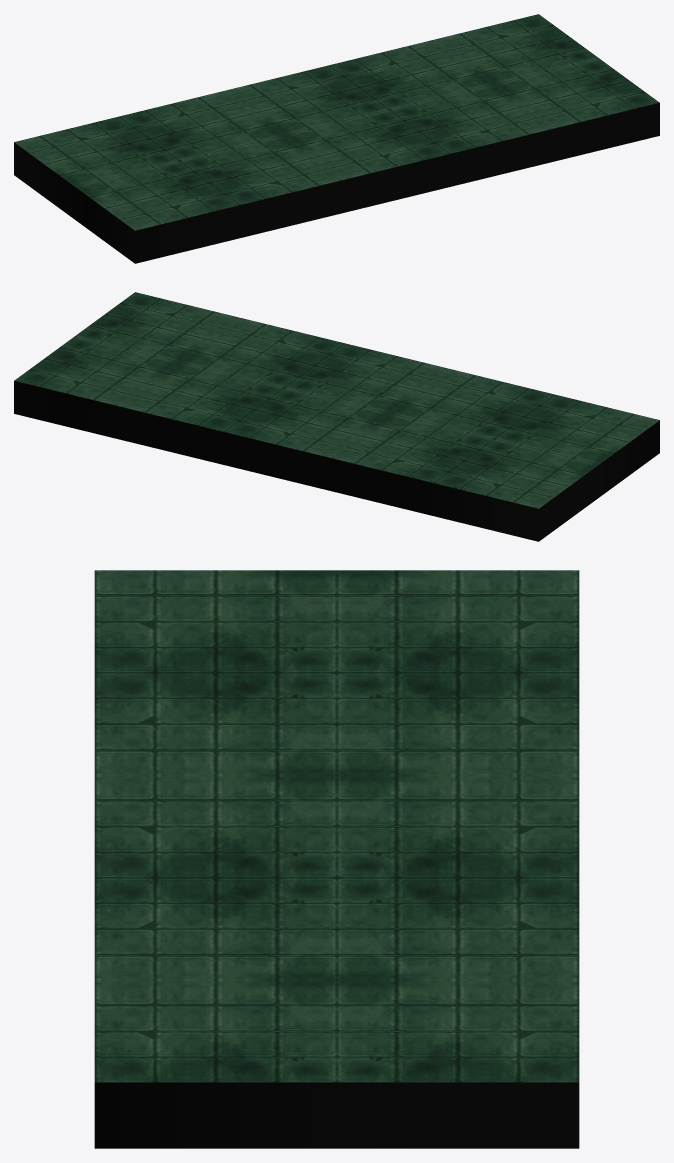
Rendered from Frogames_DP_floor_5x2.FBX.
The picture shows the model from 3 angles, top to bottom: view 1: azimuth 30°, elevation 25°; view 2: azimuth 150°, elevation 25°; view 3: azimuth 270°, elevation 25°; orthographic projection. The views are drawn at different scales.
Visible parts, largest first — view 1: floor_5x2; view 2: floor_5x2; view 3: floor_5x2.
Part boxes in pixels (x1,y1,x2,y2): floor_5x2: (14,14,659,263); floor_5x2: (14,292,659,541); floor_5x2: (94,570,579,1148).
Size of the model in its own units: 50 by 20 by 3.
